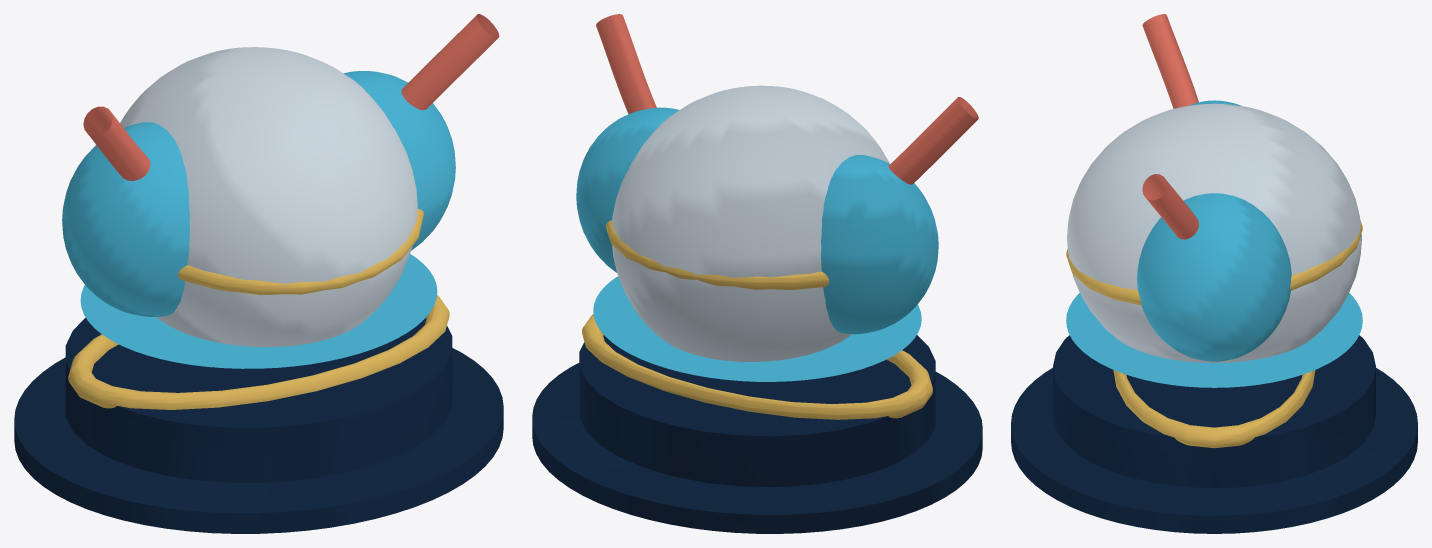
The model's file is 0187_人体图鉴_肾.glb.
3 renders of one model, left to right at view 1: azimuth 30°, elevation 25°; view 2: azimuth 150°, elevation 25°; view 3: azimuth 270°, elevation 25°, orthographic. The views are drawn at different scales.
Visible parts, largest first — view 1: card_0187; view 2: card_0187; view 3: card_0187.
Part boxes in pixels (bbox=[...]): card_0187: bbox=[14, 14, 503, 533]; card_0187: bbox=[532, 14, 982, 533]; card_0187: bbox=[1011, 14, 1417, 533].
Bounding box in the file's own units: 1.14 × 1 × 1.06.
